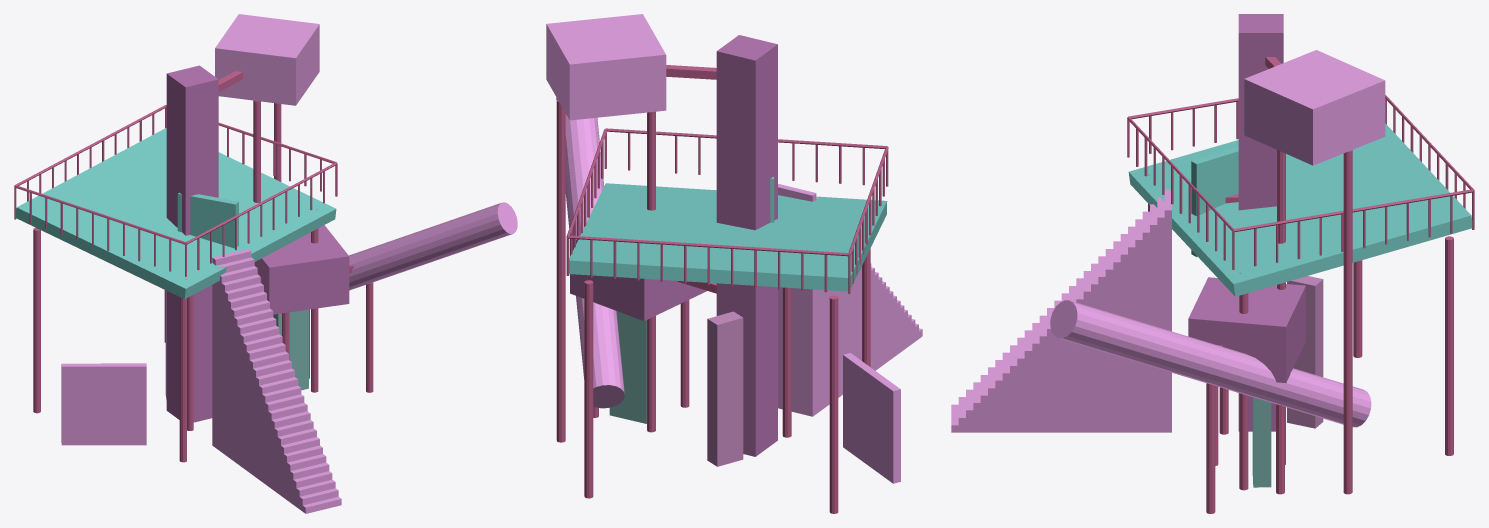
Rendered from folie_tag_033.glb.
The picture shows the model from 3 angles, left to right: view 1: azimuth 30°, elevation 25°; view 2: azimuth 150°, elevation 25°; view 3: azimuth 270°, elevation 25°; orthographic projection. The views are drawn at different scales.
Visible parts, largest first — view 1: folie_tag_033_00_plate, folie_tag_033_stairs, folie_tag_033_line, folie_tag_033_core, folie_tag_033_01_block, folie_tag_033_05_panel, folie_tag_033_02_block, folie_tag_033_03_tube, folie_tag_033_06_panel, folie_tag_033_04_fin; view 2: folie_tag_033_00_plate, folie_tag_033_line, folie_tag_033_core, folie_tag_033_01_block, folie_tag_033_stairs, folie_tag_033_03_tube, folie_tag_033_05_panel, folie_tag_033_07_fin, folie_tag_033_02_block, folie_tag_033_04_fin; view 3: folie_tag_033_stairs, folie_tag_033_00_plate, folie_tag_033_line, folie_tag_033_03_tube, folie_tag_033_01_block, folie_tag_033_02_block, folie_tag_033_core, folie_tag_033_07_fin, folie_tag_033_06_panel, folie_tag_033_04_fin.
Boxes of the visible parts, <box> form: folie_tag_033_00_plate: <box>16,128,336,299</box>; folie_tag_033_stairs: <box>212,249,341,513</box>; folie_tag_033_line: <box>14,71,373,462</box>; folie_tag_033_core: <box>166,65,218,422</box>; folie_tag_033_01_block: <box>215,14,319,105</box>; folie_tag_033_05_panel: <box>61,363,146,445</box>; folie_tag_033_02_block: <box>254,225,349,314</box>; folie_tag_033_03_tube: <box>349,202,517,290</box>; folie_tag_033_06_panel: <box>177,192,238,248</box>; folie_tag_033_04_fin: <box>273,309,308,390</box>; folie_tag_033_00_plate: <box>569,183,887,291</box>; folie_tag_033_line: <box>556,65,888,513</box>; folie_tag_033_core: <box>716,35,777,456</box>; folie_tag_033_01_block: <box>546,14,666,120</box>; folie_tag_033_stairs: <box>778,184,922,416</box>; folie_tag_033_03_tube: <box>556,97,624,408</box>; folie_tag_033_05_panel: <box>843,353,900,483</box>; folie_tag_033_07_fin: <box>707,311,743,466</box>; folie_tag_033_02_block: <box>570,232,706,320</box>; folie_tag_033_04_fin: <box>609,311,646,423</box>; folie_tag_033_stairs: <box>951,189,1171,432</box>; folie_tag_033_00_plate: <box>1128,123,1472,296</box>; folie_tag_033_line: <box>1127,57,1474,513</box>; folie_tag_033_03_tube: <box>1050,300,1371,427</box>; folie_tag_033_01_block: <box>1244,50,1385,165</box>; folie_tag_033_02_block: <box>1188,277,1305,382</box>; folie_tag_033_core: <box>1238,14,1283,431</box>; folie_tag_033_07_fin: <box>1287,276,1323,428</box>; folie_tag_033_06_panel: <box>1191,146,1238,257</box>; folie_tag_033_04_fin: <box>1252,397,1271,487</box>.
Size of the model in its own units: 12.6 by 10.76 by 12.8.
